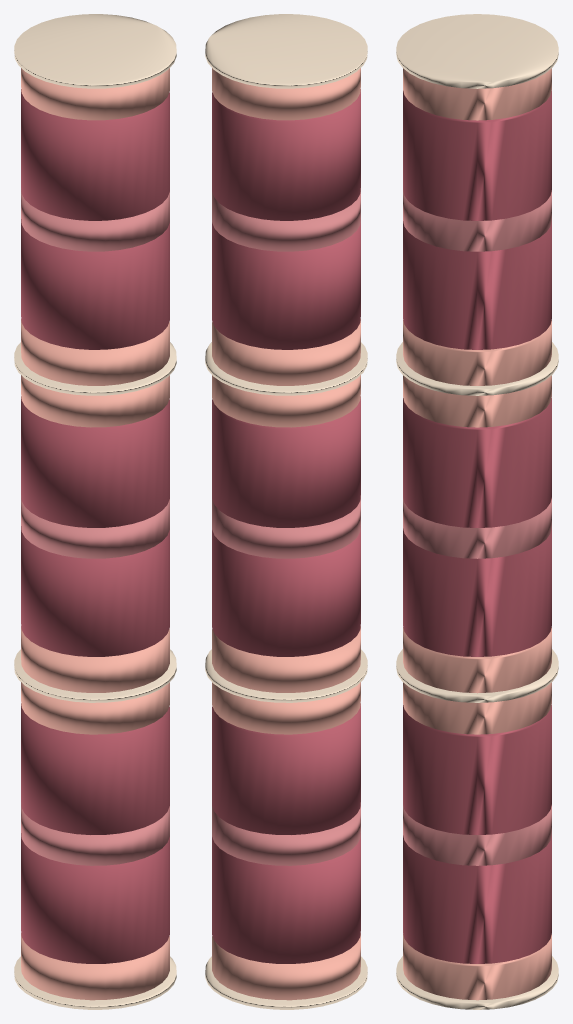
The model's file is myofibril.glb.
3 views of the same model, side by side, from view 1: azimuth 30°, elevation 25°; view 2: azimuth 150°, elevation 25°; view 3: azimuth 270°, elevation 25° (orthographic).
Visible parts, largest first — view 1: BandA_02_R, BandA_01_R, BandA_03_R, BandA_02_L, BandA_03_L, BandA_01_L, ZLine_04, BandI_03_L, BandI_01_L, BandI_02_L, BandI_02_R, BandI_03_R (+7 smaller); view 2: BandA_02_R, BandA_01_R, BandA_03_R, BandA_02_L, BandA_03_L, BandA_01_L, ZLine_04, BandI_03_L, BandI_01_L, BandI_02_L, BandI_02_R, BandI_03_R (+7 smaller); view 3: BandA_01_R, BandA_02_R, BandA_03_R, BandA_01_L, BandA_03_L, BandA_02_L, ZLine_04, BandI_02_L, BandI_01_L, BandI_03_L, H zone_03, H zone_01 (+7 smaller).
Boxes of the visible parts, x1=… form: BandA_02_R: x1=21, y1=396, x2=169, y2=527; BandA_01_R: x1=21, y1=703, x2=169, y2=834; BandA_03_R: x1=21, y1=89, x2=169, y2=220; BandA_02_L: x1=21, y1=526, x2=169, y2=656; BandA_03_L: x1=21, y1=219, x2=169, y2=349; BandA_01_L: x1=21, y1=833, x2=169, y2=963; ZLine_04: x1=14, y1=14, x2=176, y2=88; BandI_03_L: x1=21, y1=319, x2=169, y2=385; BandI_01_L: x1=21, y1=933, x2=169, y2=1000; BandI_02_L: x1=21, y1=626, x2=169, y2=692; BandI_02_R: x1=21, y1=375, x2=169, y2=427; BandI_03_R: x1=21, y1=68, x2=169, y2=120; BandA_02_R: x1=212, y1=396, x2=360, y2=527; BandA_01_R: x1=212, y1=703, x2=360, y2=834; BandA_03_R: x1=212, y1=89, x2=360, y2=220; BandA_02_L: x1=212, y1=526, x2=360, y2=656; BandA_03_L: x1=212, y1=219, x2=360, y2=349; BandA_01_L: x1=212, y1=833, x2=360, y2=963; ZLine_04: x1=205, y1=14, x2=367, y2=88; BandI_03_L: x1=212, y1=319, x2=360, y2=385; BandI_01_L: x1=212, y1=933, x2=360, y2=1000; BandI_02_L: x1=212, y1=626, x2=360, y2=692; BandI_02_R: x1=212, y1=375, x2=360, y2=427; BandI_03_R: x1=212, y1=68, x2=360, y2=120; BandA_01_R: x1=403, y1=705, x2=551, y2=835; BandA_02_R: x1=403, y1=398, x2=551, y2=527; BandA_03_R: x1=403, y1=90, x2=551, y2=220; BandA_01_L: x1=403, y1=835, x2=551, y2=963; BandA_03_L: x1=403, y1=221, x2=551, y2=349; BandA_02_L: x1=403, y1=528, x2=551, y2=656; ZLine_04: x1=396, y1=14, x2=558, y2=88; BandI_02_L: x1=403, y1=627, x2=551, y2=693; BandI_01_L: x1=403, y1=934, x2=551, y2=1000; BandI_03_L: x1=403, y1=320, x2=551, y2=385; H zone_03: x1=403, y1=190, x2=551, y2=251; H zone_01: x1=403, y1=805, x2=551, y2=865.
Size of the model in its own units: 0.96 by 6.04 by 0.96.
